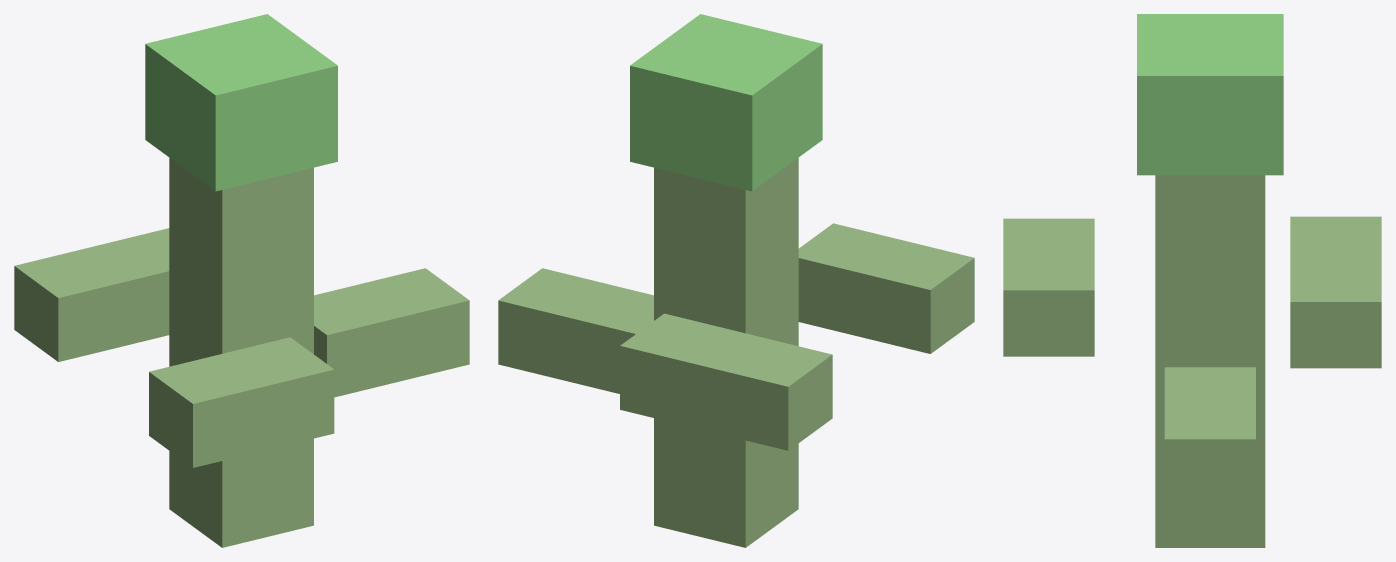
The model's file is Prop_Herb_AMF_Furfern_V1.glb.
3 views of the same model, side by side, from view 1: azimuth 30°, elevation 25°; view 2: azimuth 150°, elevation 25°; view 3: azimuth 270°, elevation 25° (orthographic). The views are drawn at different scales.
Visible parts, largest first — view 1: Prop_Herb_AMF_Furfern_V1; view 2: Prop_Herb_AMF_Furfern_V1; view 3: Prop_Herb_AMF_Furfern_V1.
Boxes of the visible parts, <box> form: Prop_Herb_AMF_Furfern_V1: <box>14,14,469,547</box>; Prop_Herb_AMF_Furfern_V1: <box>498,14,974,547</box>; Prop_Herb_AMF_Furfern_V1: <box>1003,14,1381,547</box>.
Bounding box in the file's own units: 0.2318 × 0.2891 × 0.2068.
